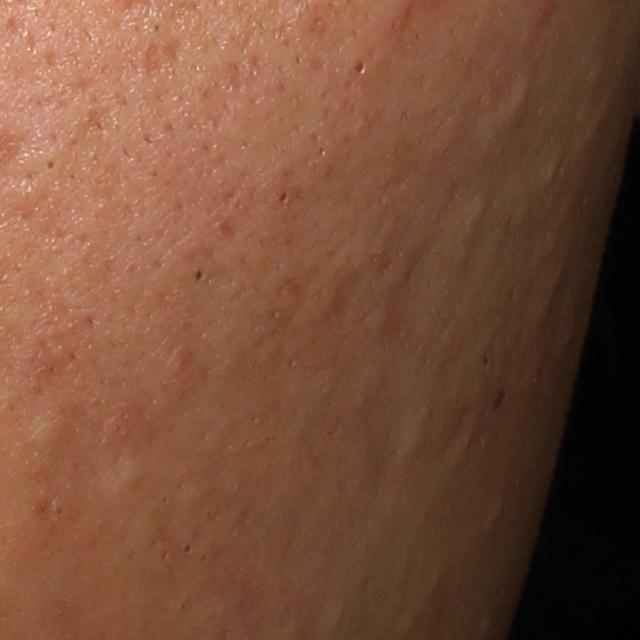atrophic_scar: (143, 42, 169, 79)
comedo: (29, 411, 82, 457), (394, 404, 434, 459), (508, 74, 536, 112), (541, 153, 566, 189), (466, 199, 485, 227), (42, 153, 59, 175), (351, 58, 370, 77), (190, 268, 205, 285)
